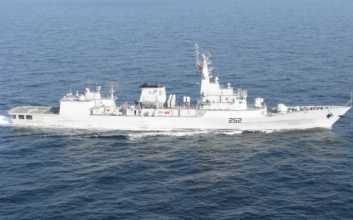warship: (8, 45, 351, 132)
